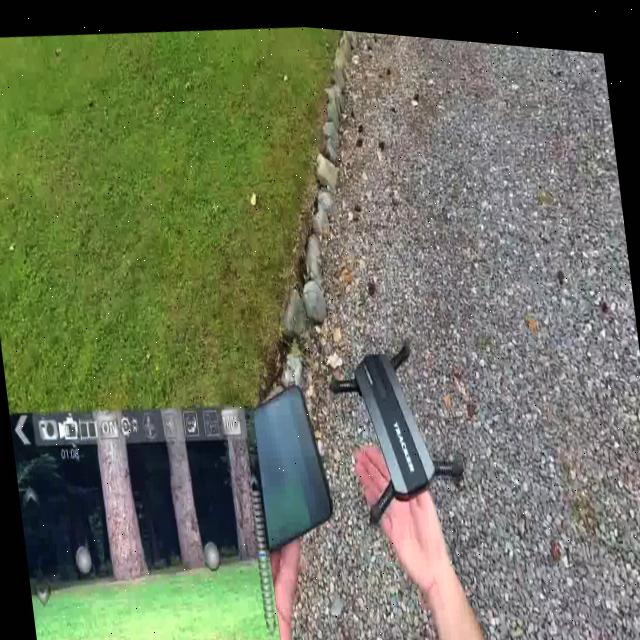drone: (282, 294, 497, 544)
